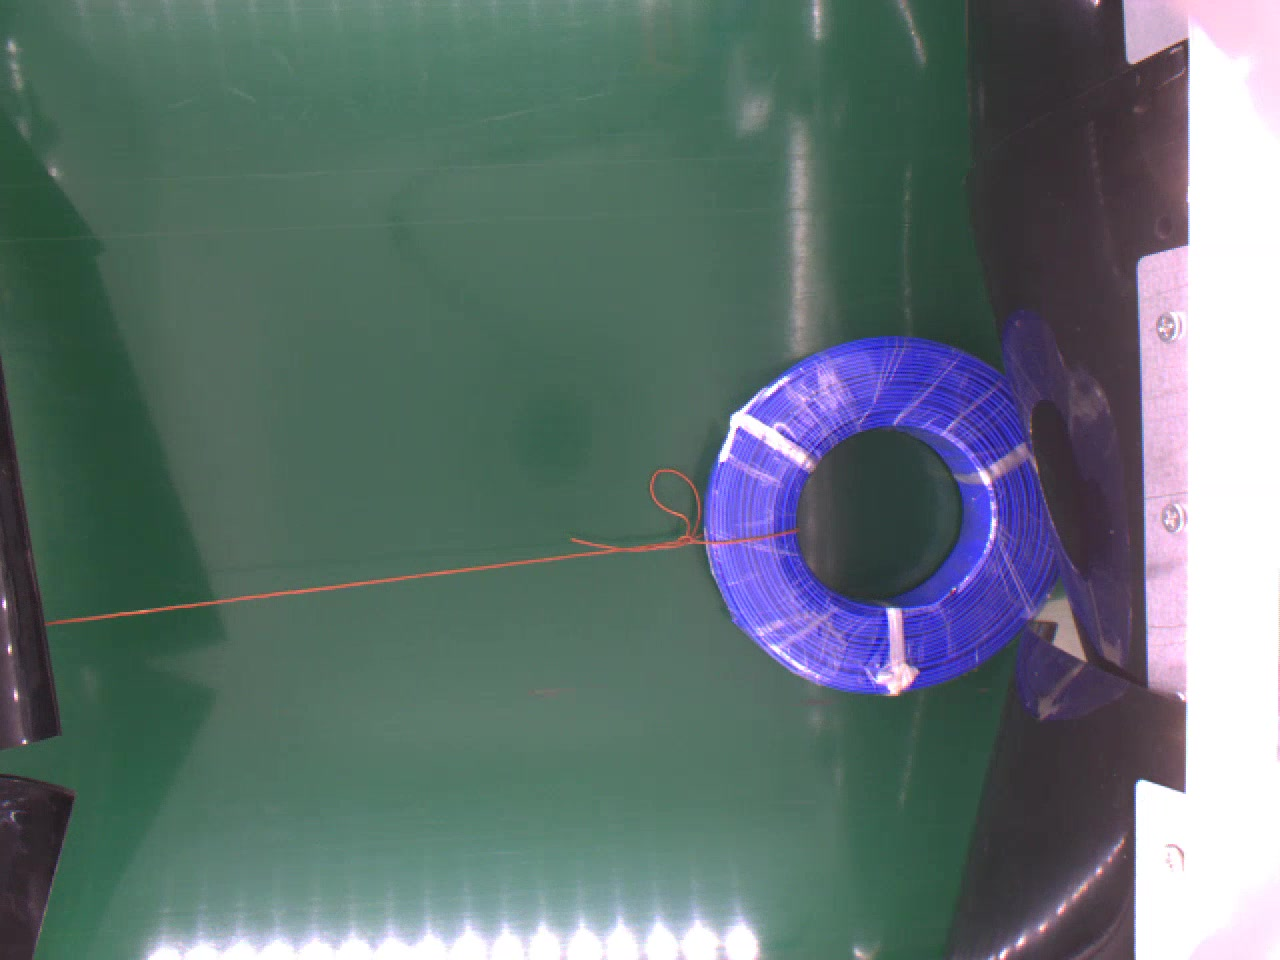blue: (707, 339, 1066, 701)
